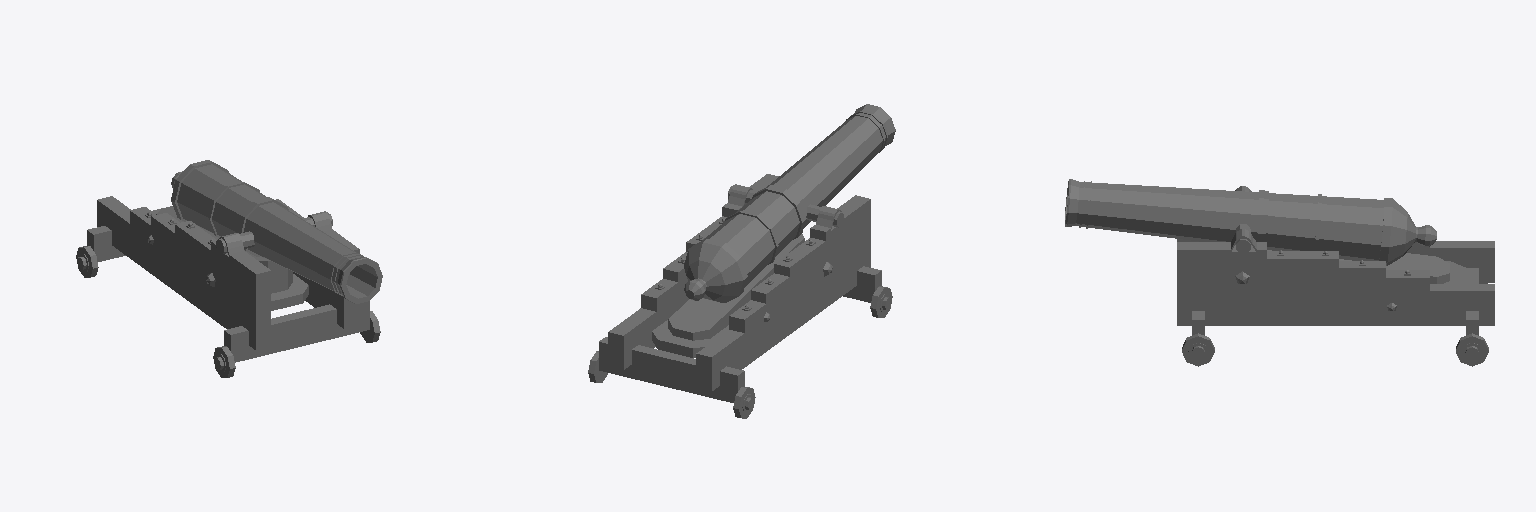
Rendered from Canon.obj.
3 views of the same model, side by side, from view 1: azimuth 30°, elevation 25°; view 2: azimuth 150°, elevation 25°; view 3: azimuth 270°, elevation 25° (orthographic).
Visible parts, largest first — view 1: Canon_low Canon, Canon_low CanonWall1, Canon_low WheelSupport2, Canon_low CanonWall2, Canon_low MetalPiece, Canon_low CanonStand, Canon_low WheelSupport, Canon_low CanonFloor, Canon_low Wheel1, Canon_low Wheel4, Canon_low MetalPiece1; view 2: Canon_low Canon, Canon_low CanonWall1, Canon_low CanonWall2, Canon_low WheelSupport, Canon_low CanonStand, Canon_low CanonFloor, Canon_low MetalPiece, Canon_low WheelSupport2, Canon_low MetalPiece1, Canon_low Wheel4, Canon_low Wheel1; view 3: Canon_low CanonWall2, Canon_low Canon, Canon_low CanonWall1, Canon_low CanonStand, Canon_low MetalPiece1, Canon_low Wheel5, Canon_low Wheel6.
Part boxes in pixels (x1,y1,x2,y2): Canon_low Canon: (171,160,382,303); Canon_low CanonWall1: (97,196,270,350); Canon_low WheelSupport2: (224,301,369,362); Canon_low CanonWall2: (276,199,359,328); Canon_low MetalPiece: (211,233,270,276); Canon_low CanonStand: (156,206,292,293); Canon_low WheelSupport: (87,226,125,261); Canon_low CanonFloor: (152,209,308,310); Canon_low Wheel1: (213,346,235,377); Canon_low Wheel4: (76,246,98,277); Canon_low MetalPiece1: (308,211,359,251); Canon_low Canon: (684,104,895,302); Canon_low CanonWall1: (696,202,870,391); Canon_low CanonWall2: (608,210,734,369); Canon_low WheelSupport: (599,337,744,402); Canon_low CanonStand: (668,234,804,340); Canon_low CanonFloor: (652,320,728,357); Canon_low MetalPiece: (810,195,870,234); Canon_low WheelSupport2: (843,266,881,302); Canon_low MetalPiece1: (722,174,778,212); Canon_low Wheel4: (733,387,755,418); Canon_low Wheel1: (870,286,892,317); Canon_low CanonWall2: (1177,245,1494,325); Canon_low Canon: (1065,179,1436,265); Canon_low CanonWall1: (1177,227,1494,282); Canon_low CanonStand: (1267,250,1449,283); Canon_low MetalPiece1: (1177,229,1266,251); Canon_low Wheel5: (1456,333,1488,366); Canon_low Wheel6: (1182,333,1214,366).
Bounding box in the file's own units: 0.5031 × 0.4458 × 1.18.